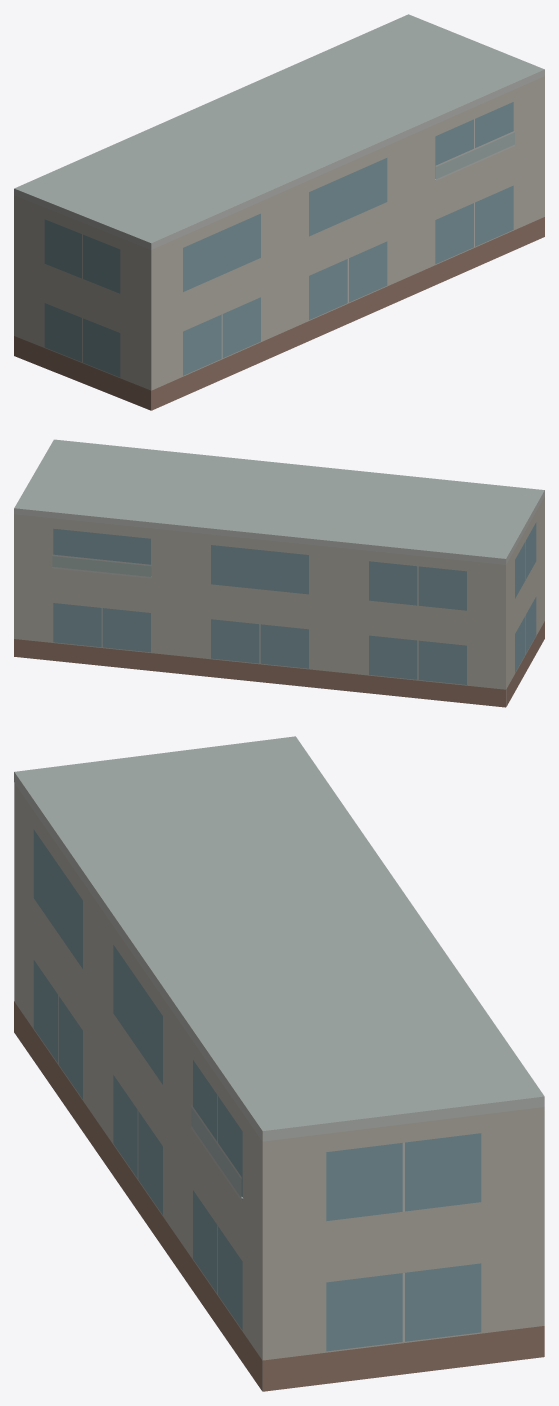
File: survey-upis-32709737.glb
3 renders of one model, top to bottom at view 1: azimuth 30°, elevation 25°; view 2: azimuth 150°, elevation 25°; view 3: azimuth 270°, elevation 25°, orthographic. The views are drawn at different scales.
Visible parts, largest first — view 1: survey-upis-32709737.tmp; view 2: survey-upis-32709737.tmp; view 3: survey-upis-32709737.tmp.
Part boxes in pixels (x1=…): survey-upis-32709737.tmp: x1=14, y1=14, x2=544, y2=410; survey-upis-32709737.tmp: x1=14, y1=439, x2=544, y2=707; survey-upis-32709737.tmp: x1=14, y1=736, x2=544, y2=1391.
Bounding box in the file's own units: 19.85 × 6.1 × 11.27.
